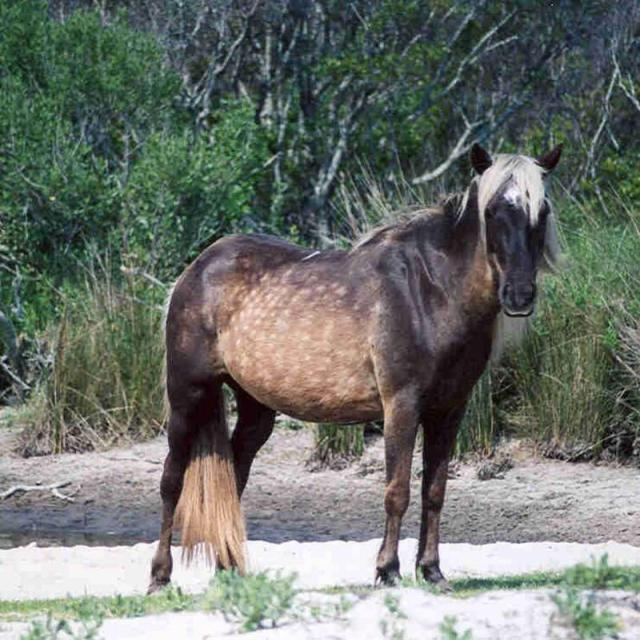Horse: (126, 144, 566, 588)
